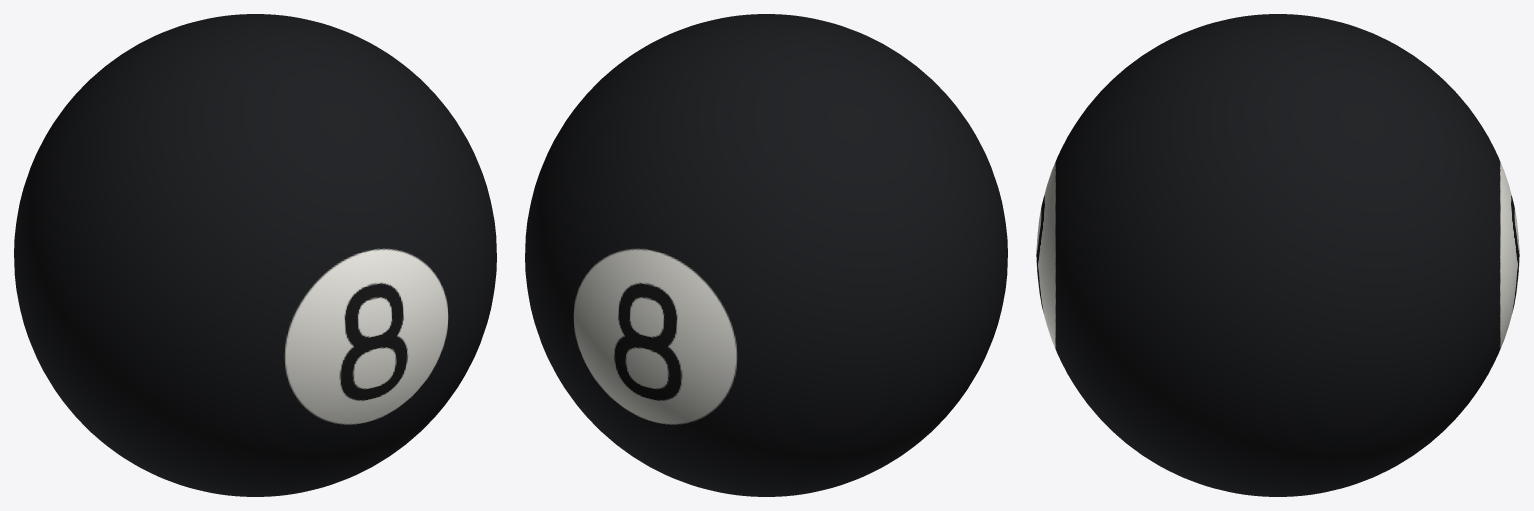
Rendered from ball-08.gltf.
3 renders of one model, left to right at view 1: azimuth 30°, elevation 25°; view 2: azimuth 150°, elevation 25°; view 3: azimuth 270°, elevation 25°, orthographic.
Parts seen in each view (by area): view 1: Ball_08; view 2: Ball_08; view 3: Ball_08.
Part boxes in pixels (x1,y1,x2,y2): Ball_08: (14,14,496,496); Ball_08: (525,14,1007,496); Ball_08: (1036,14,1519,496).
Size of the model in its own units: 0.1 by 0.1 by 0.1.
1 material, 1 textured.
